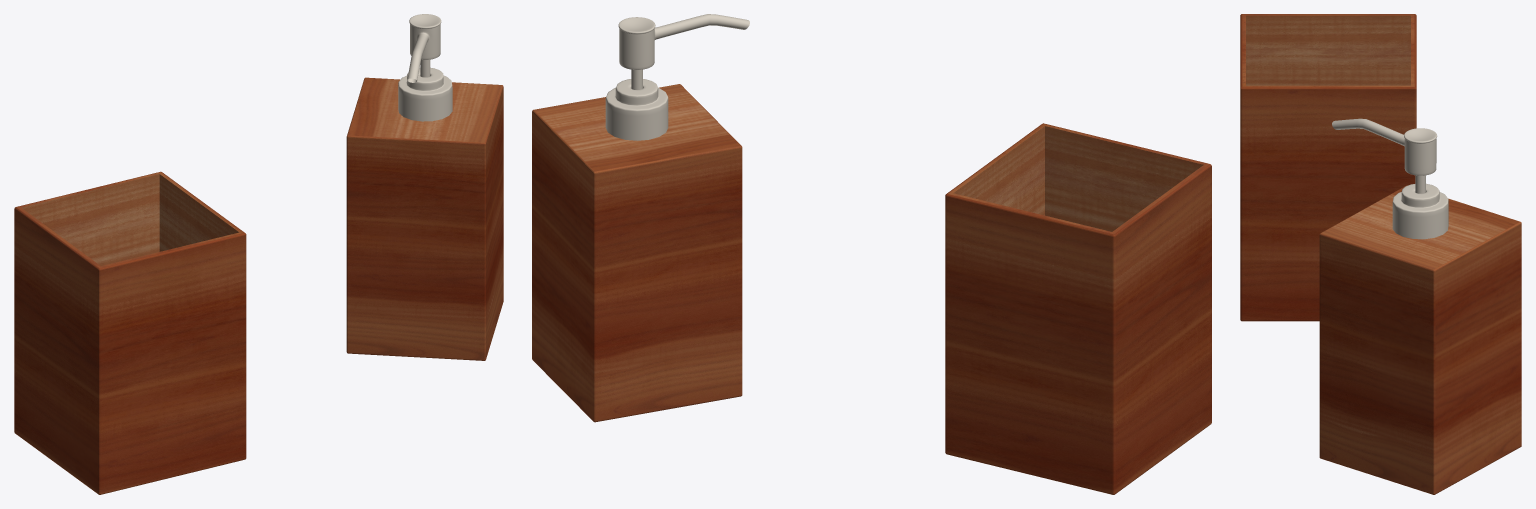
File: soap_dispenser.fbx
3 views of the same model, side by side, from view 1: azimuth 30°, elevation 25°; view 2: azimuth 150°, elevation 25°; view 3: azimuth 270°, elevation 25° (orthographic). The views are drawn at different scales.
Parts seen in each view (by area): view 1: toothbrush box, soap container, button grip washer, dispenser button; view 2: toothbrush box, soap container, button grip washer, dispenser button; view 3: soap container, toothbrush box, button grip washer, dispenser button.
Part boxes in pixels (x1,y1,x2,y2): toothbrush box: (14, 171, 246, 494); soap container: (346, 77, 503, 360); button grip washer: (398, 67, 452, 121); dispenser button: (407, 14, 441, 82); toothbrush box: (945, 123, 1211, 494); soap container: (532, 84, 742, 422); button grip washer: (605, 79, 668, 140); dispenser button: (618, 14, 749, 89); soap container: (1319, 185, 1521, 494); toothbrush box: (1240, 14, 1416, 321); button grip washer: (1392, 183, 1448, 239); dispenser button: (1332, 118, 1437, 193).
Bounding box in the file's own units: 24.55 × 14.63 × 11.63.
